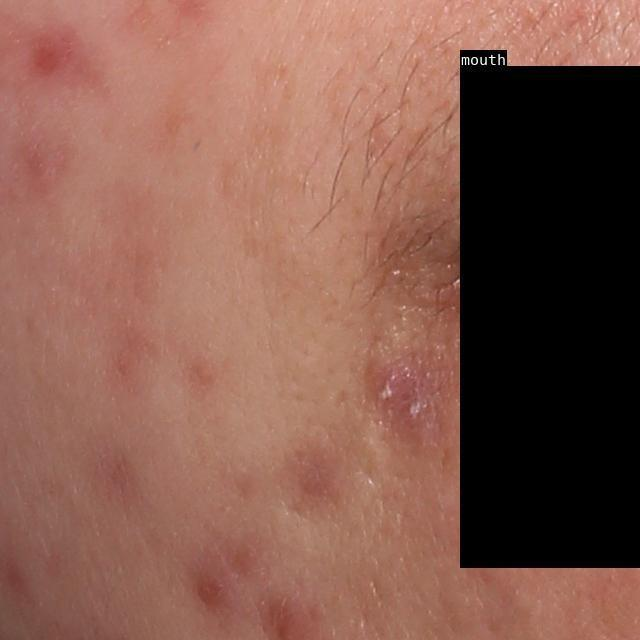papule: (192, 571, 230, 613)
